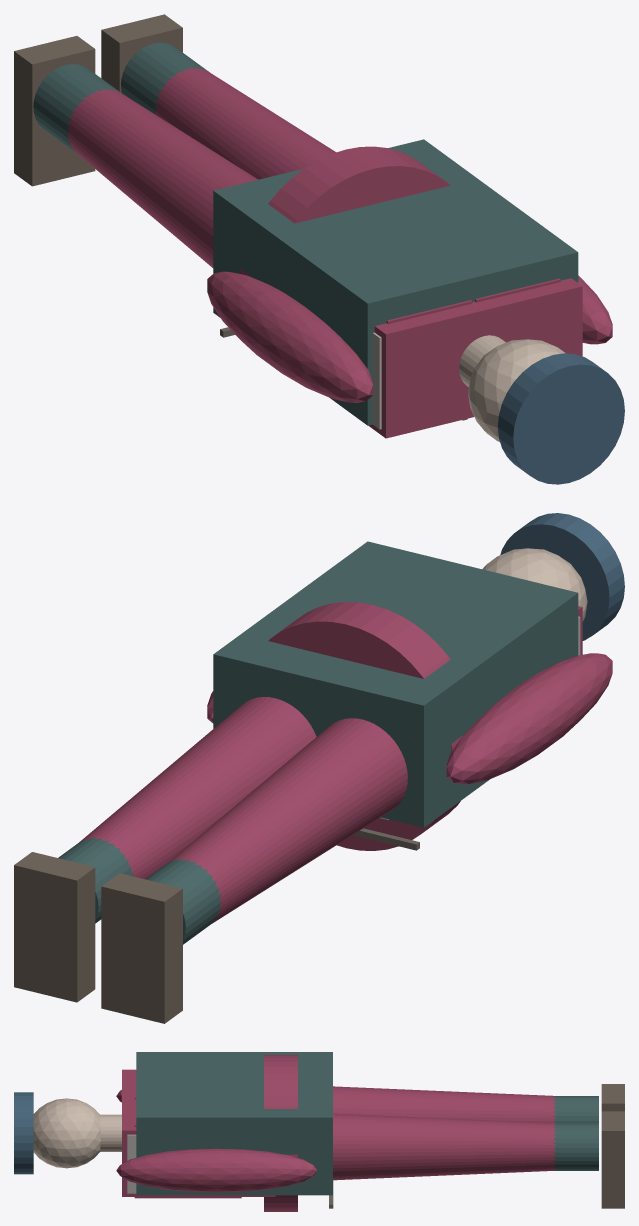
The model's file is MASTER_065_STAGE3_DETAIL.glb.
3 views of the same model, one above another, from view 1: azimuth 30°, elevation 25°; view 2: azimuth 150°, elevation 25°; view 3: azimuth 270°, elevation 25° (orthographic). The views are drawn at different scales.
Visible parts, largest first — view 1: slot_outerwear__xhokë/xhulia, slot_upper_inner__këmishë, slot_lower_main__pantallona_L, slot_headwear__mbulesë_koke, slot_upper_inner_sleeve_L, slot_lower_main__pantallona_R, slot_waist__brez, slot_footwear__opinga_L, mannequin_head, slot_legwear__çorape_L, slot_footwear__opinga_R, slot_legwear__çorape_R (+3 smaller); view 2: slot_outerwear__xhokë/xhulia, slot_lower_main__pantallona_L, slot_lower_main__pantallona_R, slot_footwear__opinga_L, slot_footwear__opinga_R, slot_upper_inner_sleeve_L, slot_waist__brez, slot_headwear__mbulesë_koke, slot_legwear__çorape_L, mannequin_head, slot_legwear__çorape_R; view 3: slot_outerwear__xhokë/xhulia, slot_lower_main__pantallona_R, slot_upper_inner_sleeve_R, slot_lower_main__pantallona_L, mannequin_head, slot_waist__brez, slot_footwear__opinga_R, slot_legwear__çorape_R, slot_headwear__mbulesë_koke, slot_upper_inner__këmishë, slot_legwear__çorape_L, mannequin_neck (+3 smaller).
Boxes of the visible parts, box(x1,y1,x2,y2) form: slot_outerwear__xhokë/xhulia: box(213, 139, 578, 425); slot_upper_inner__këmishë: box(368, 278, 582, 438); slot_lower_main__pantallona_L: box(67, 89, 257, 267); slot_headwear__mbulesë_koke: box(498, 353, 624, 484); slot_upper_inner_sleeve_L: box(207, 271, 372, 402); slot_lower_main__pantallona_R: box(155, 67, 336, 179); slot_waist__brez: box(240, 146, 450, 277); slot_footwear__opinga_L: box(14, 36, 95, 186); mannequin_head: box(468, 339, 565, 441); slot_legwear__çorape_L: box(33, 64, 120, 153); slot_footwear__opinga_R: box(101, 14, 182, 92); slot_legwear__çorape_R: box(121, 42, 208, 113); slot_outerwear__xhokë/xhulia: box(213, 541, 578, 827); slot_lower_main__pantallona_L: box(166, 718, 407, 923); slot_lower_main__pantallona_R: box(79, 697, 316, 879); slot_footwear__opinga_L: box(101, 873, 182, 1023); slot_footwear__opinga_R: box(14, 852, 95, 1002); slot_upper_inner_sleeve_L: box(446, 653, 612, 784); slot_waist__brez: box(268, 602, 463, 850); slot_headwear__mbulesë_koke: box(500, 513, 624, 640); slot_legwear__çorape_L: box(145, 858, 221, 944); mannequin_head: box(482, 548, 587, 621); slot_legwear__çorape_R: box(58, 837, 133, 923); slot_outerwear__xhokë/xhulia: box(136, 1052, 332, 1195); slot_lower_main__pantallona_R: box(333, 1113, 555, 1180); slot_upper_inner_sleeve_R: box(116, 1148, 316, 1192); slot_lower_main__pantallona_L: box(333, 1086, 555, 1122); mannequin_head: box(33, 1098, 100, 1168); slot_waist__brez: box(264, 1055, 297, 1211); slot_footwear__opinga_R: box(601, 1111, 624, 1208); slot_legwear__çorape_R: box(553, 1123, 598, 1170); slot_headwear__mbulesë_koke: box(14, 1092, 33, 1174); slot_upper_inner__këmishë: box(122, 1069, 275, 1196); slot_legwear__çorape_L: box(553, 1096, 598, 1122); mannequin_neck: box(99, 1114, 121, 1151).
Bounding box in the file's own units: 0.6161 × 0.44 × 1.71.
